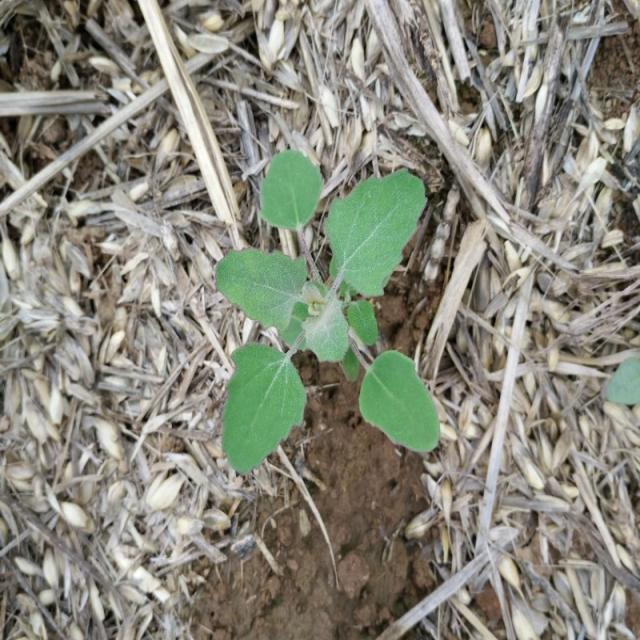goosefoots: (197, 143, 470, 485)
